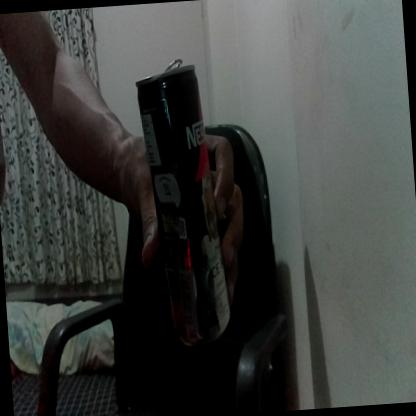plastic_bottles: (132, 50, 233, 352)
